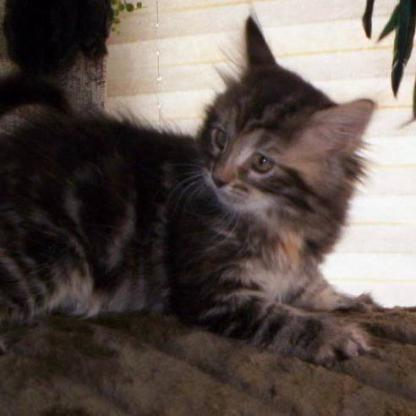cat: (122, 36, 381, 336)
